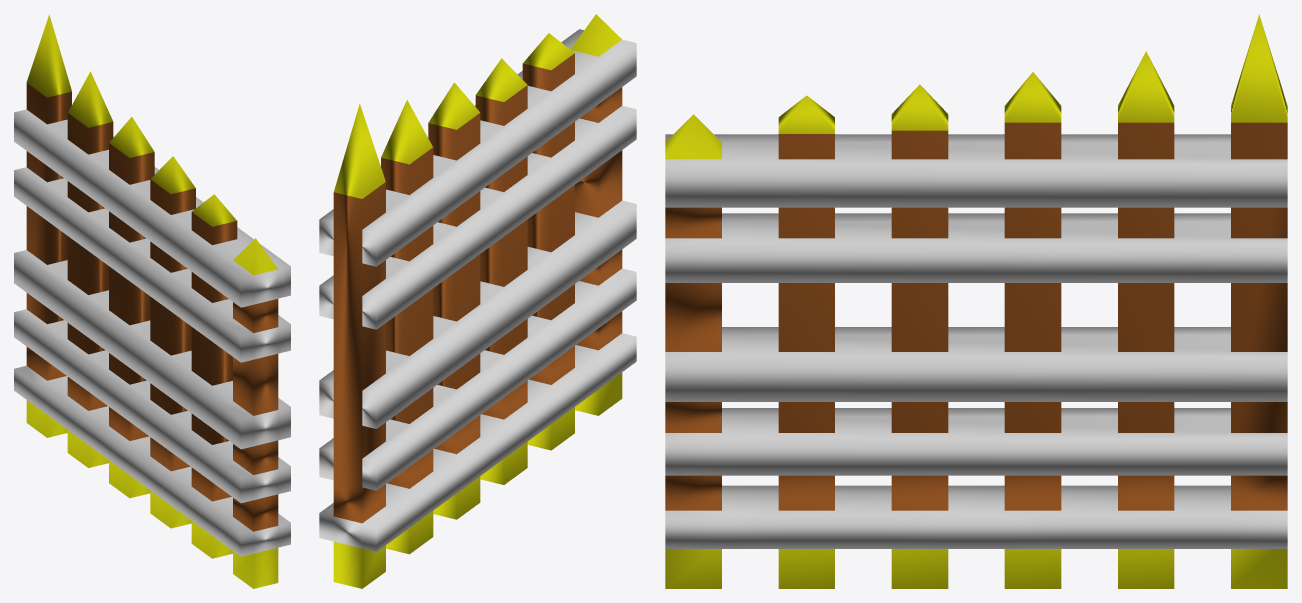
Rendered from GateDoor.fbx.
3 renders of one model, left to right at view 1: azimuth 30°, elevation 25°; view 2: azimuth 150°, elevation 25°; view 3: azimuth 270°, elevation 25°, orthographic. The views are drawn at different scales.
Parts seen in each view (by area): view 1: Cube.001; view 2: Cube.001; view 3: Cube.001.
Part boxes in pixels (left/top/right/bottom): Cube.001: left=14, top=14, right=290, bottom=588; Cube.001: left=319, top=14, right=636, bottom=588; Cube.001: left=665, top=14, right=1287, bottom=588.
Bounding box in the file's own units: 60.1 × 476 × 474.
